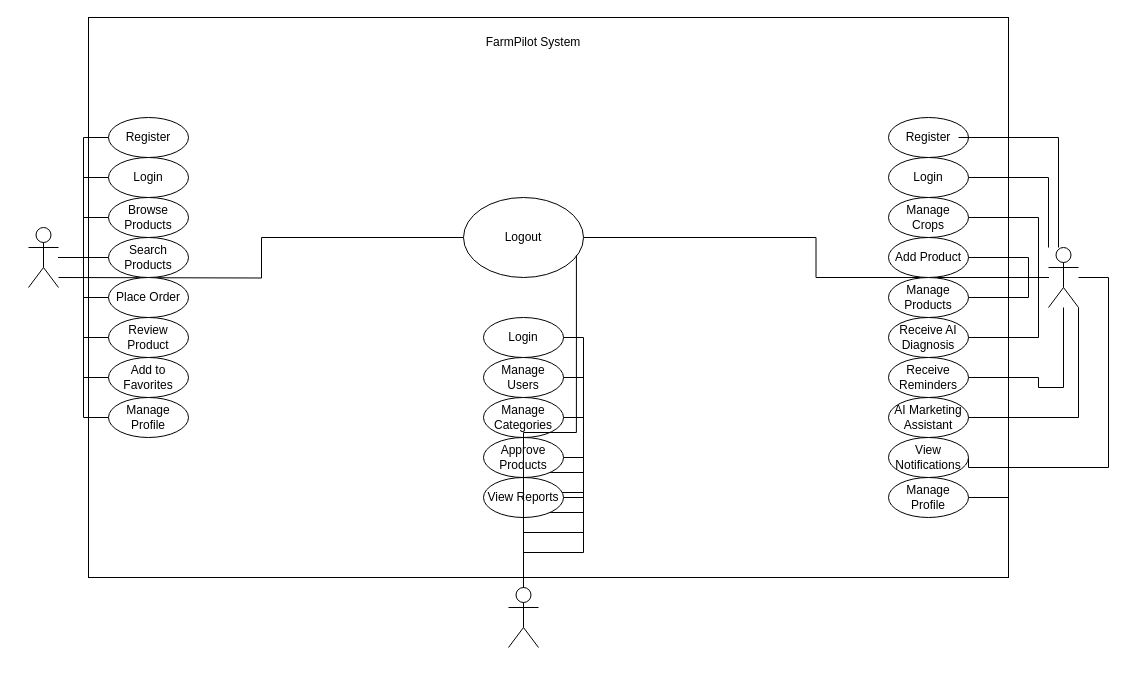
This 1127x686 diagram has some shape labels left out. Here are the shapes that lost their labels. From the top down, the centre of each, then its label:
pixel 43 257: Customer
pixel 1063 277: Farmer
pixel 523 617: Admin
